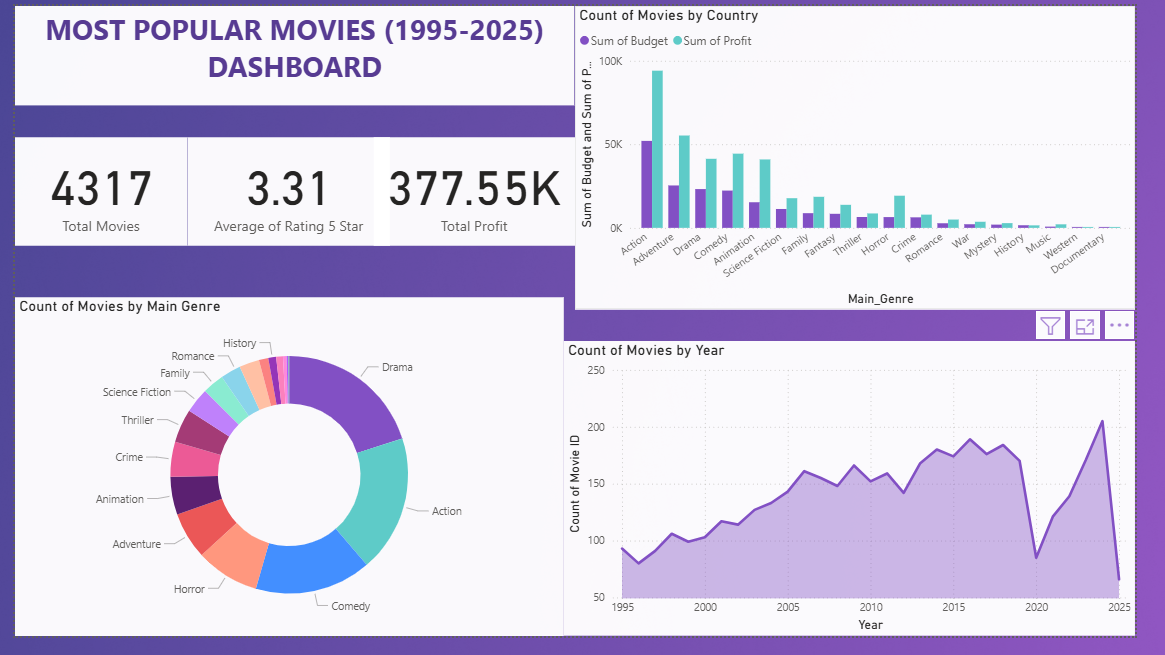

The page's visual inventory and layout, read from the dashboard file:
{"tool":"powerbi","page":{"name":"Page 1","canvas":[1280,720],"ordinal":0},"visuals":[{"type":"card","fields":{"Values":["CountNonNull(Movies_Datas.Movie ID)"]},"box":[0,150,197.1,124.3],"z":0},{"type":"card","fields":{"Values":["Avg(Movies_Datas.Rating_5star)"]},"box":[197.1,150,231.4,124.3],"z":1000},{"type":"card","fields":{"Values":["Sum(Movies_Datas.Profit)"]},"box":[410,150,230,124.3],"z":2000},{"type":"stackedAreaChart","title":"Count of Movies by Year","fields":{"Category":["Movies_Datas.Release Date.Variation.Date Hierarchy.Year"],"Y":["CountNonNull(Movies_Datas.Movie ID)"]},"box":[627.1,382.9,652.9,337.1],"z":3000},{"type":"donutChart","title":"Count of Movies by Main Genre","fields":{"Y":["CountNonNull(Movies_Datas.Movie ID)"],"Category":["Movies_Datas.Main_Genre"]},"box":[0,332.9,627.1,387.1],"z":4000},{"type":"clusteredColumnChart","title":"Count of Movies by Country","fields":{"Category":["Movies_Datas.Main_Genre"],"Y":["Sum(Movies_Datas.Budget)","Sum(Movies_Datas.Profit)"]},"box":[639.5,0,640.8,347.3],"z":5000},{"type":"textbox","box":[0,0,639.5,113.7],"z":6000}]}

Visuals, with their boxes in screenshot pixels (x1, y1, x2, y2), scaled from the page's 1280x720 canvas onto the 1165x655 screenshot:
card - CountNonNull(Movies_Datas.Movie ID): <region>0, 136, 179, 250</region>
card - Avg(Movies_Datas.Rating_5star): <region>179, 136, 390, 250</region>
card - Sum(Movies_Datas.Profit): <region>373, 136, 582, 250</region>
"Count of Movies by Year" stackedAreaChart: <region>571, 348, 1164, 654</region>
"Count of Movies by Main Genre" donutChart: <region>0, 303, 571, 654</region>
"Count of Movies by Country" clusteredColumnChart: <region>582, 0, 1164, 316</region>
textbox: <region>0, 0, 582, 103</region>
